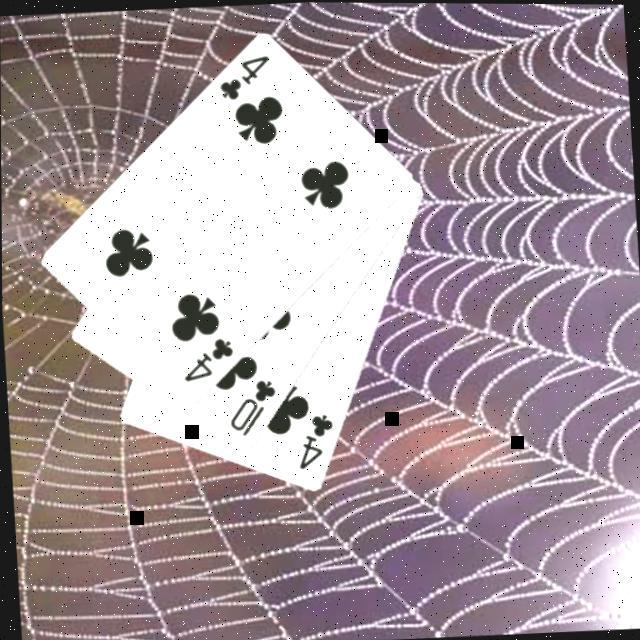10C: (224, 374, 283, 440)
4C: (178, 332, 239, 385), (215, 51, 276, 104), (293, 409, 338, 472)
